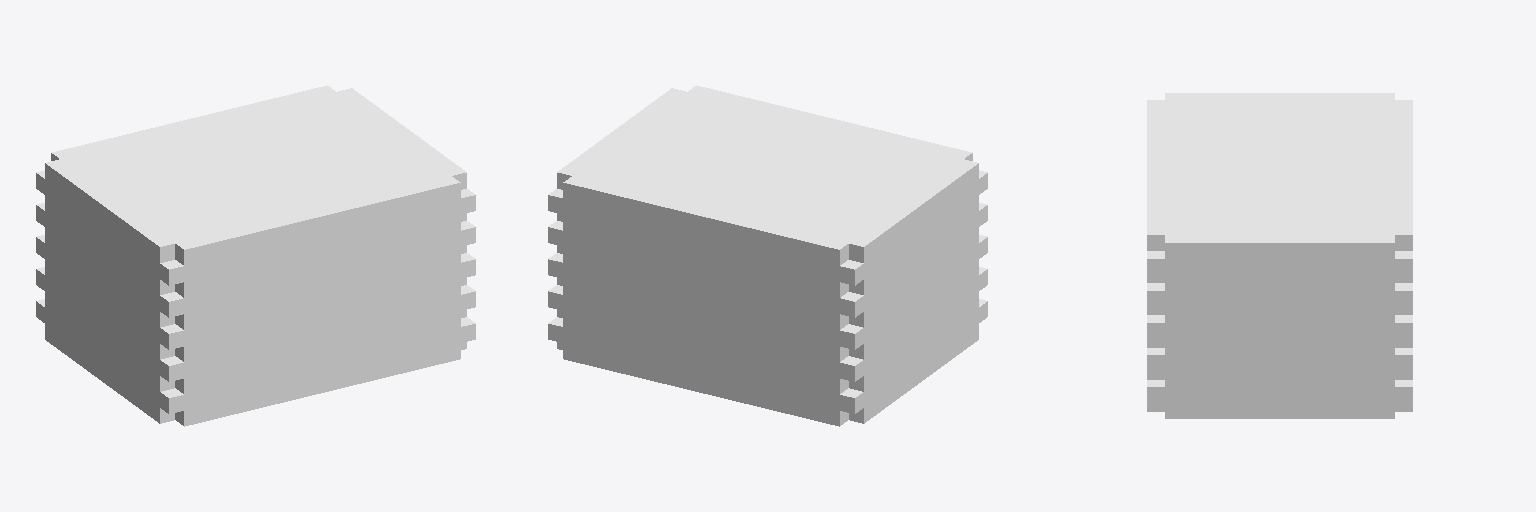
Rendered from torreD_1.obj.
The picture shows the model from 3 angles: view 1: azimuth 30°, elevation 25°; view 2: azimuth 150°, elevation 25°; view 3: azimuth 270°, elevation 25°; orthographic projection.
Visible parts, largest first — view 1: object 1; view 2: object 1; view 3: object 1.
Boxes of the visible parts, box(x1,y1,x2,y2) form: object 1: box(36, 85, 475, 426); object 1: box(548, 85, 987, 426); object 1: box(1147, 93, 1412, 418).
Bounding box in the file's own units: 2 × 1.1 × 1.5.